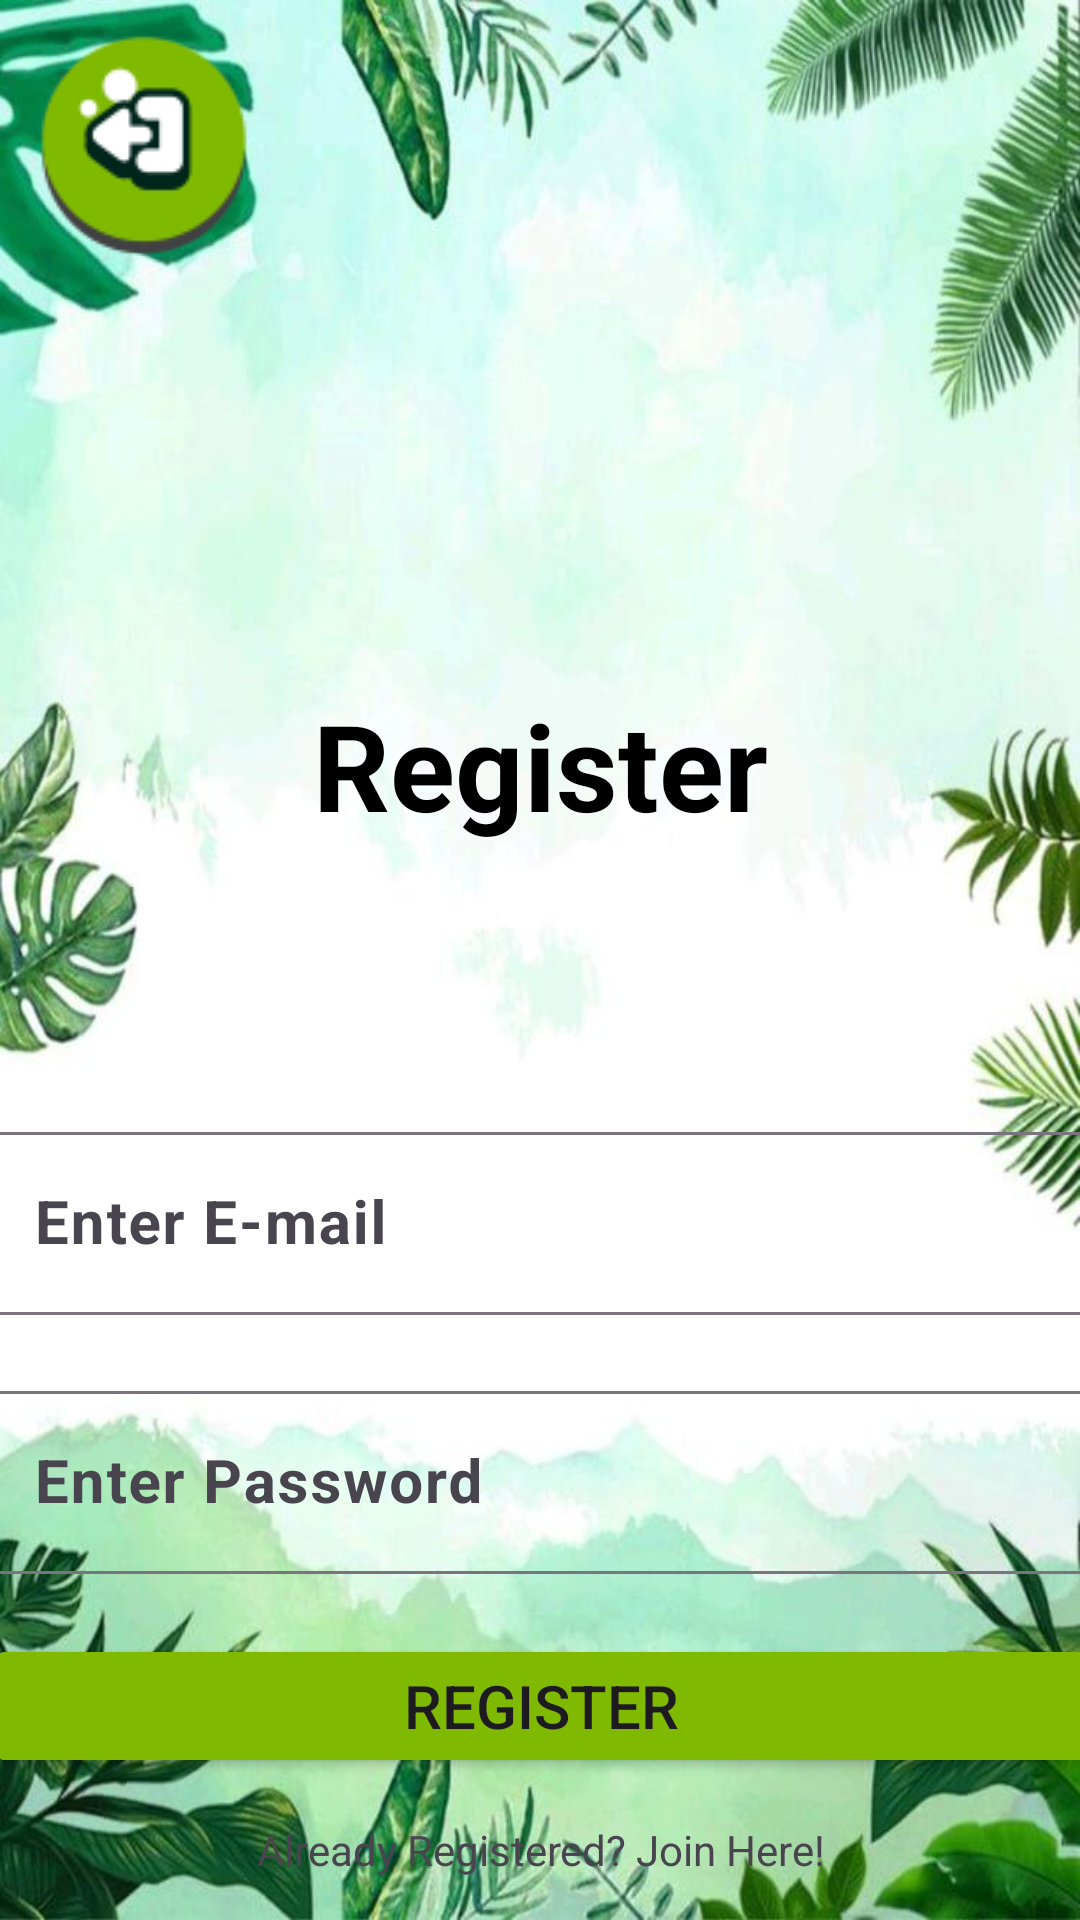

Screen size 1080 x 1920. Icon name, then its center in pixels as (x=x, y=y):
leave: (x=144, y=144)
